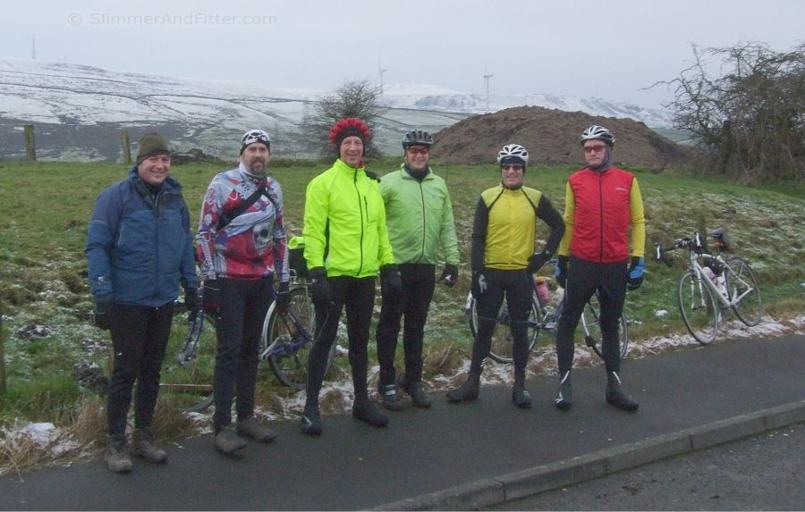non-vehicle: (162, 235, 335, 418), (464, 239, 626, 366), (648, 227, 764, 346)
